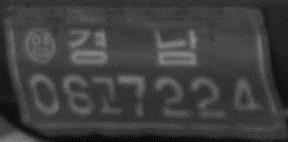0: (29, 72, 61, 117)
2: (190, 75, 229, 120), (153, 76, 192, 120)
4: (231, 77, 264, 119)
6: (61, 73, 95, 116)
7: (116, 74, 149, 118)
경남_D: (66, 26, 199, 68)
고: (92, 74, 124, 117)
영: (24, 26, 58, 65)
